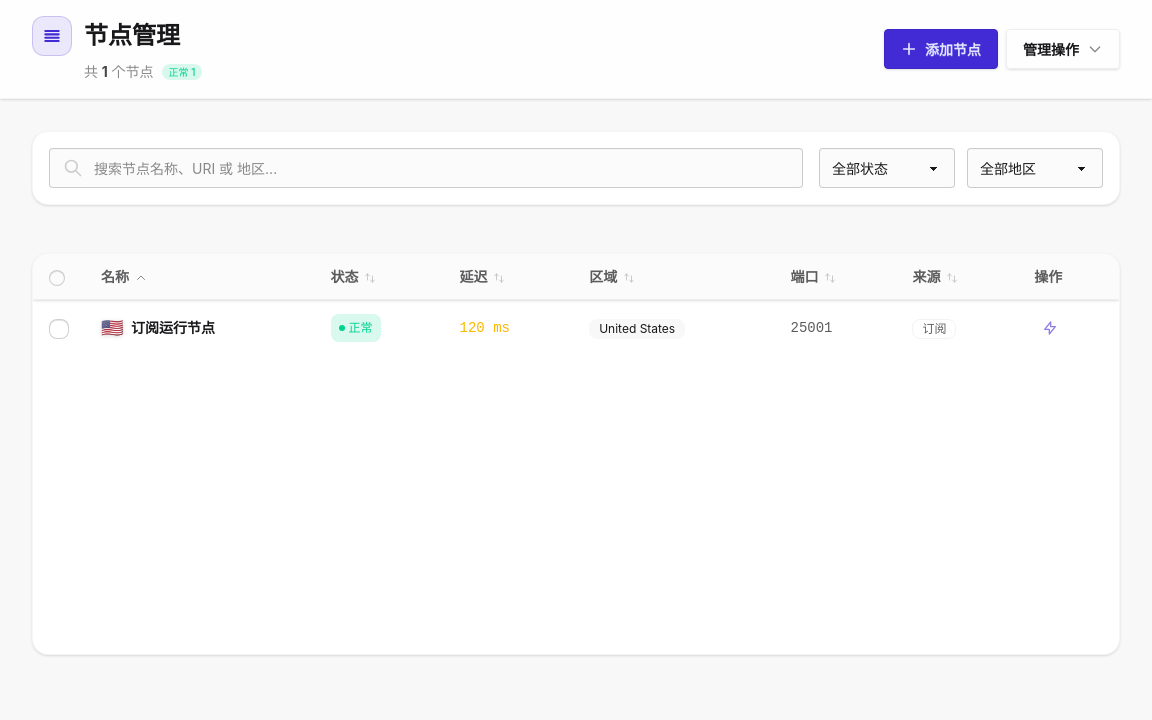
Test: does not send static batch mutations for a runtime-only selection
The width and height of the screenshot is (1152, 720).
Check: the text "订阅运行节点" is shown, box [131,318,215,338]
What coordinates should you click on to do the following:
click the checkbox next to "订阅运行节点"
I would click on:
 (59, 329)
Its box is [49,319,69,339].
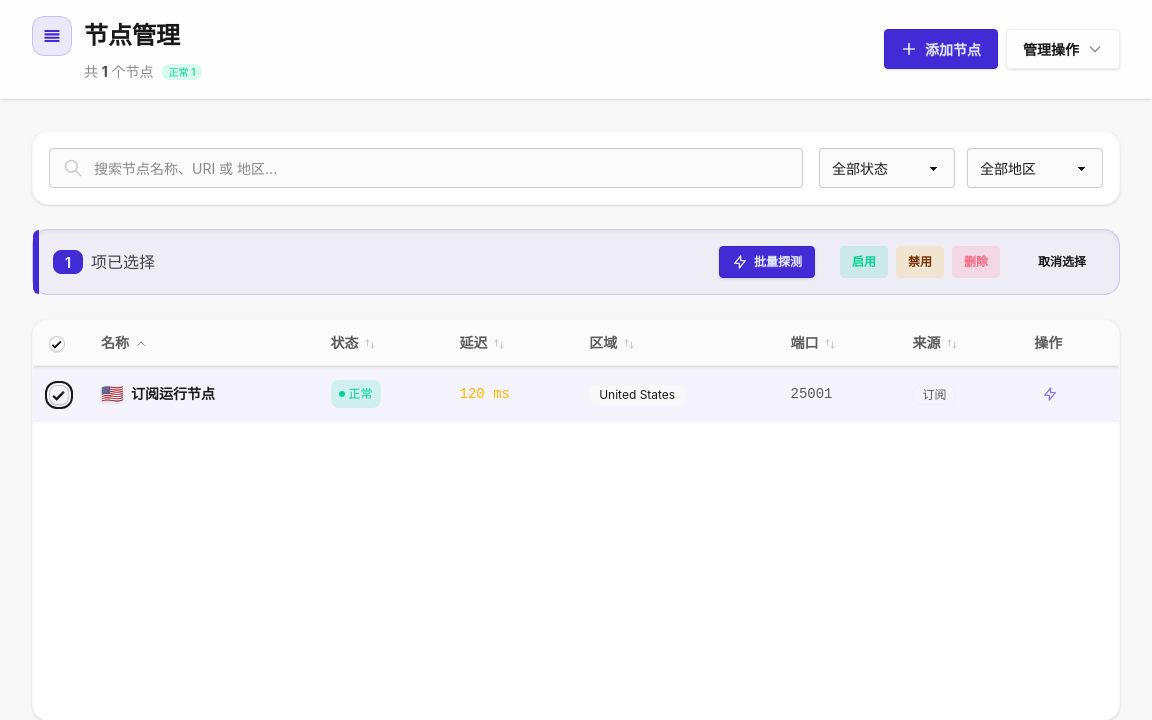
Check: the button "启用" is disabled, box [840,246,888,278]
Check: the button "禁用" is disabled, box [896,246,944,278]
Check: the button "删除" is disabled, box [952,246,1000,278]
